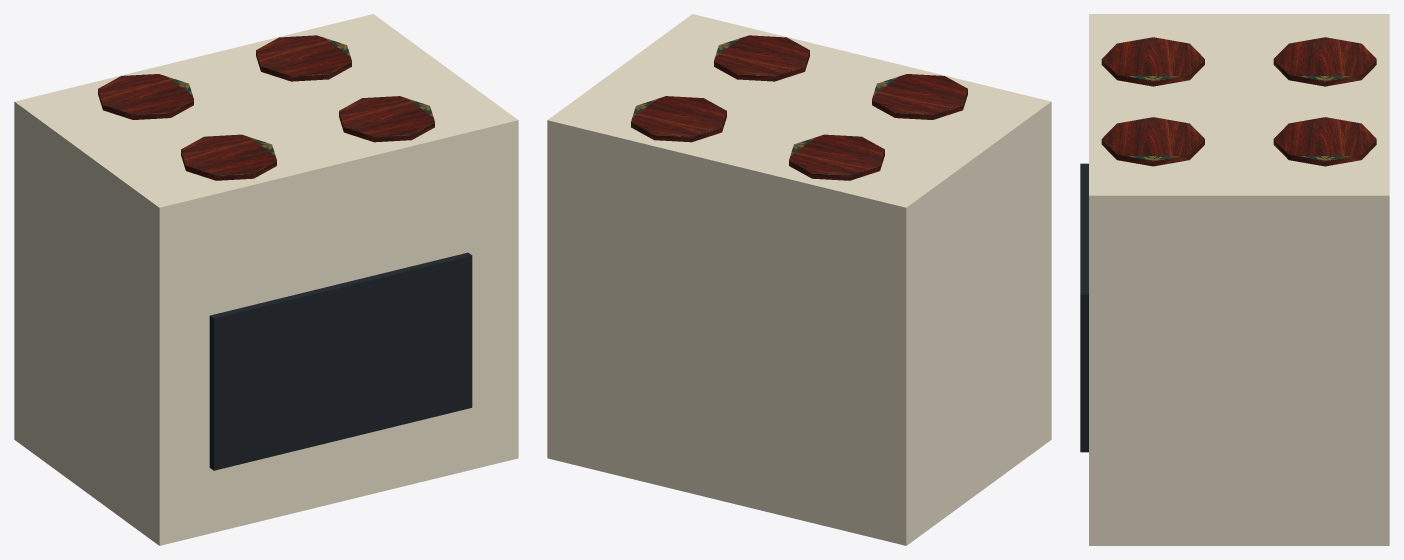
File: range.gltf
The picture shows the model from 3 angles, left to right: view 1: azimuth 30°, elevation 25°; view 2: azimuth 150°, elevation 25°; view 3: azimuth 270°, elevation 25°; orthographic projection. The views are drawn at different scales.
Parts seen in each view (by area): view 1: kit:0:furniture:ivory:, kit:0:furniture:dark:, kit:0:furniture:bronze:; view 2: kit:0:furniture:ivory:, kit:0:furniture:bronze:; view 3: kit:0:furniture:ivory:, kit:0:furniture:bronze:, kit:0:furniture:dark:.
Boxes of the visible parts, bbox=[...] form: kit:0:furniture:ivory:: bbox=[14, 14, 518, 545]; kit:0:furniture:dark:: bbox=[209, 252, 472, 470]; kit:0:furniture:bronze:: bbox=[98, 35, 434, 180]; kit:0:furniture:ivory:: bbox=[547, 14, 1051, 545]; kit:0:furniture:bronze:: bbox=[631, 35, 967, 180]; kit:0:furniture:ivory:: bbox=[1089, 14, 1389, 545]; kit:0:furniture:bronze:: bbox=[1101, 37, 1376, 166]; kit:0:furniture:dark:: bbox=[1080, 163, 1088, 452].
Bounding box in the file's own units: 1 × 0.915 × 0.72.
Materials: 3 (1 with a texture image).
